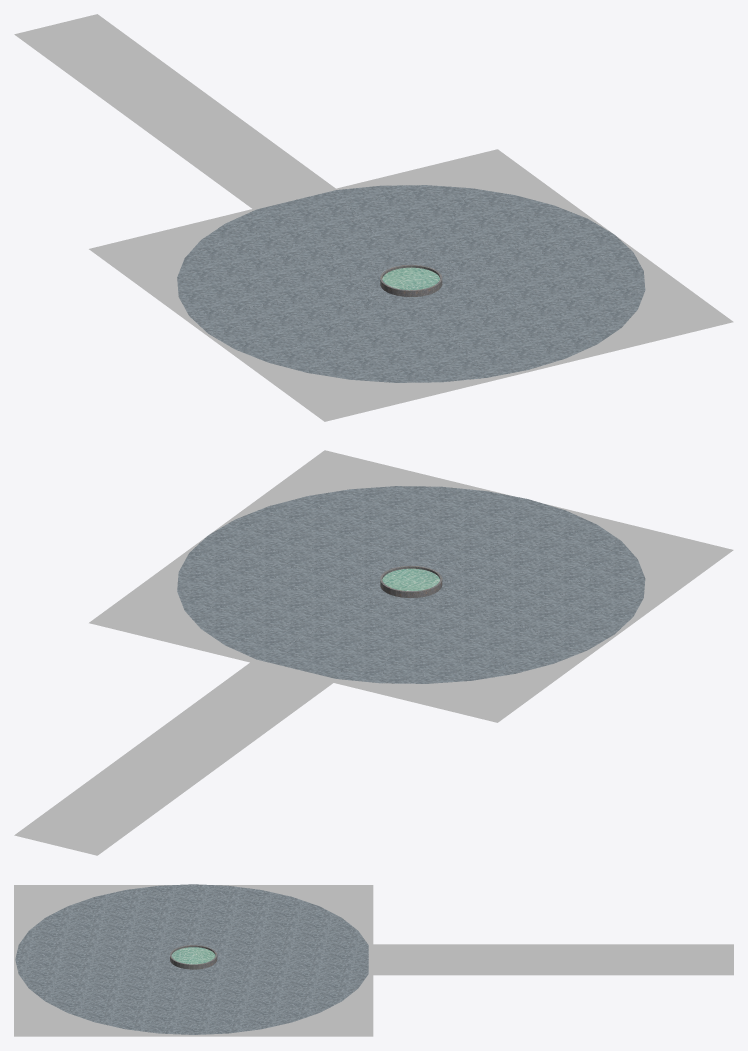
Rendered from calle.obj.
3 renders of one model, top to bottom at view 1: azimuth 30°, elevation 25°; view 2: azimuth 150°, elevation 25°; view 3: azimuth 270°, elevation 25°, orthographic. The views are drawn at different scales.
Parts seen in each view (by area): view 1: glorieta_Circle, pasto_Plane.001, camino_Plane.004, agua_Circle.004, piedra_Circle.001; view 2: glorieta_Circle, pasto_Plane.001, camino_Plane.004, agua_Circle.004, piedra_Circle.001; view 3: glorieta_Circle, pasto_Plane.001, camino_Plane.004, agua_Circle.004, piedra_Circle.001.
Part boxes in pixels (<box>): glorieta_Circle: <box>177,185,645,382</box>; pasto_Plane.001: <box>89,149,733,421</box>; camino_Plane.004: <box>14,14,337,210</box>; agua_Circle.004: <box>382,267,439,290</box>; piedra_Circle.001: <box>380,264,442,297</box>; glorieta_Circle: <box>177,486,645,683</box>; pasto_Plane.001: <box>89,450,733,722</box>; camino_Plane.004: <box>14,659,337,855</box>; agua_Circle.004: <box>382,568,439,590</box>; piedra_Circle.001: <box>380,565,442,597</box>; glorieta_Circle: <box>15,884,368,1034</box>; pasto_Plane.001: <box>14,885,373,1036</box>; camino_Plane.004: <box>368,944,733,975</box>; agua_Circle.004: <box>171,947,215,964</box>; piedra_Circle.001: <box>170,945,217,969</box>.
Size of the model in its own units: 9.8 by 0.175 by 19.65.
